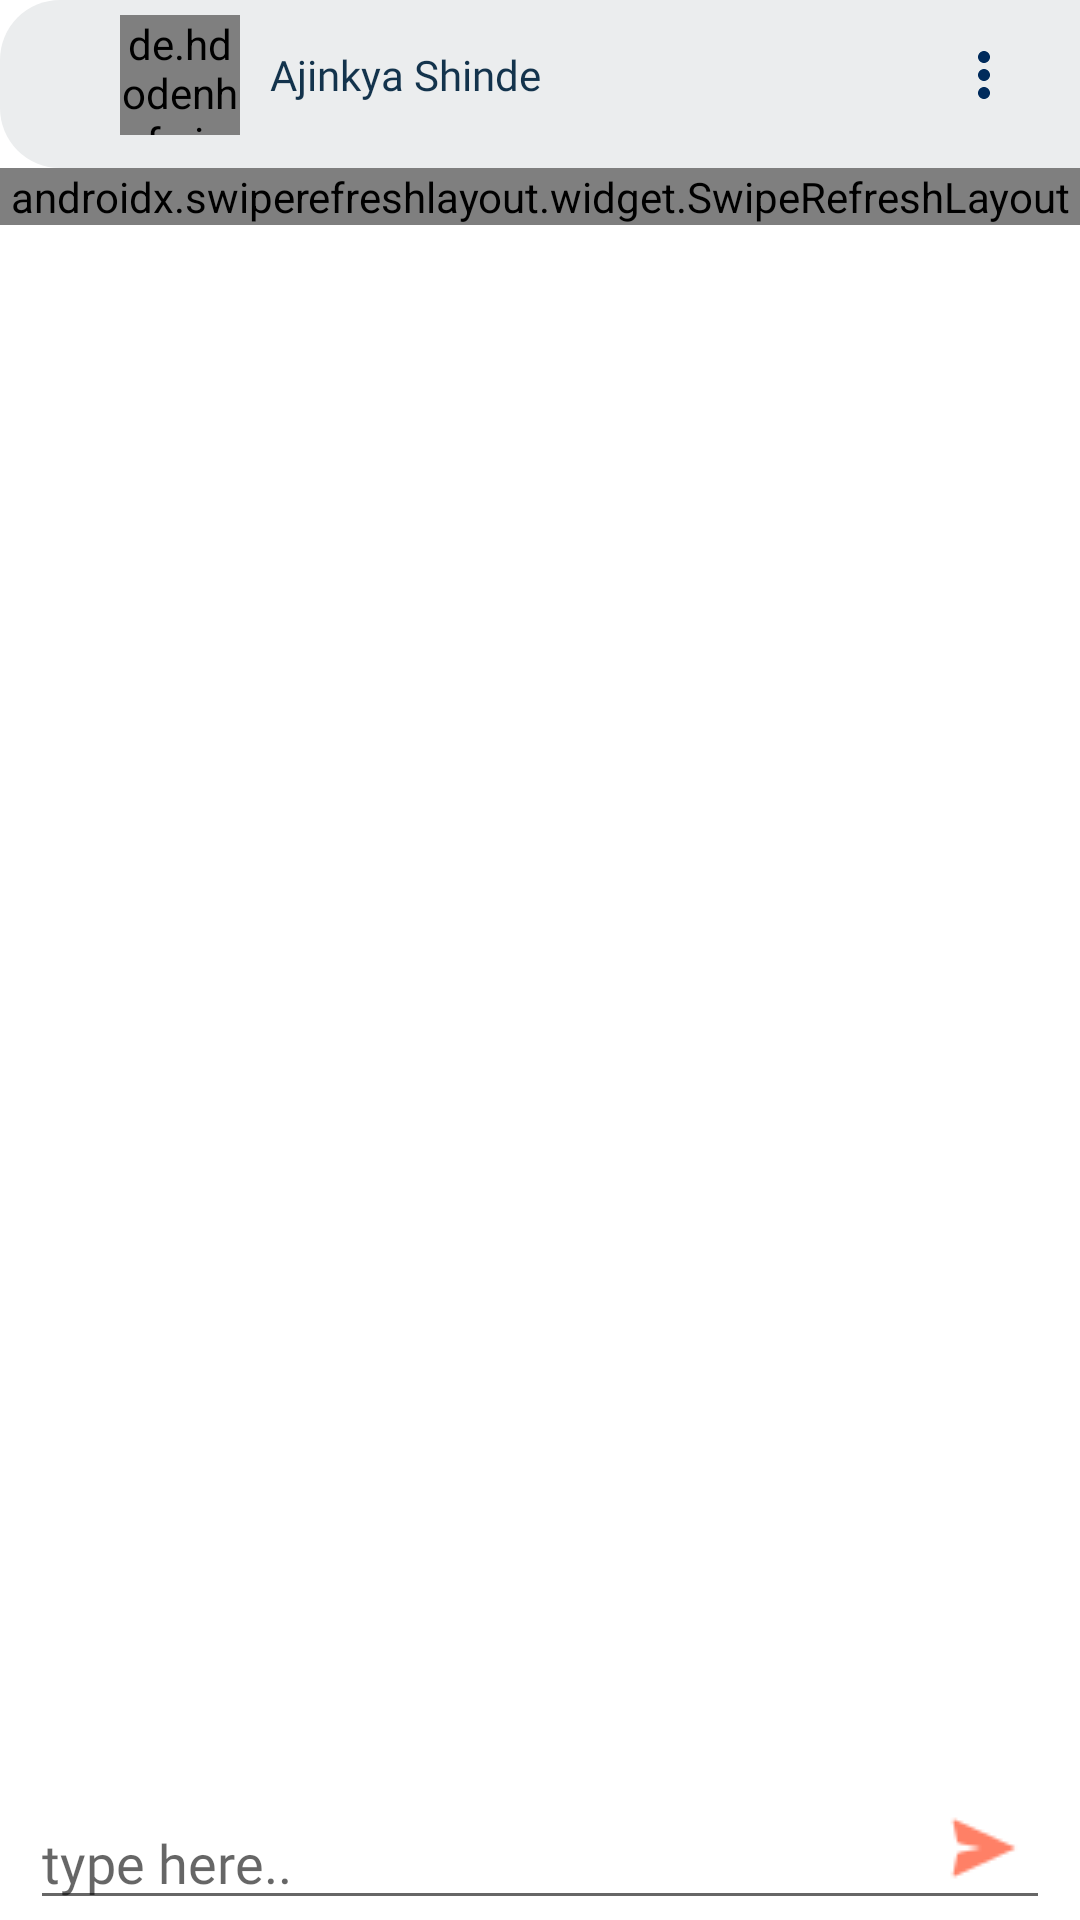

Icons on this 1080*1920 Android screen, each with the point to tap as (x=x, y=y):
menu: (x=984, y=75)
send: (x=983, y=1848)
